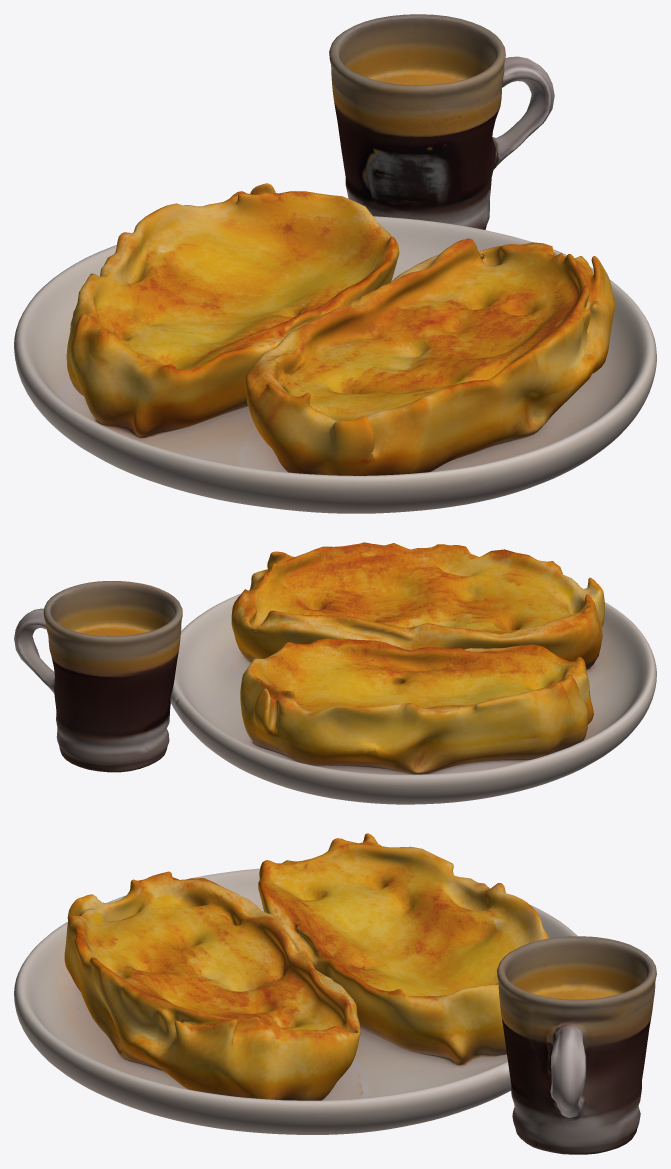
Rendered from buttered toast 3d model.glb.
The picture shows the model from 3 angles, top to bottom: view 1: azimuth 30°, elevation 25°; view 2: azimuth 150°, elevation 25°; view 3: azimuth 270°, elevation 25°; orthographic projection. The views are drawn at different scales.
Visible parts, largest first — view 1: tripo_node_6bd9f548; view 2: tripo_node_6bd9f548; view 3: tripo_node_6bd9f548.
Boxes of the visible parts, left/top/right/bottom form: tripo_node_6bd9f548: left=14, top=14, right=656, bottom=513; tripo_node_6bd9f548: left=14, top=542, right=656, bottom=804; tripo_node_6bd9f548: left=14, top=833, right=656, bottom=1154.
Bounding box in the file's own units: 97.89 × 27.13 × 95.86.
1 material, 1 textured.
